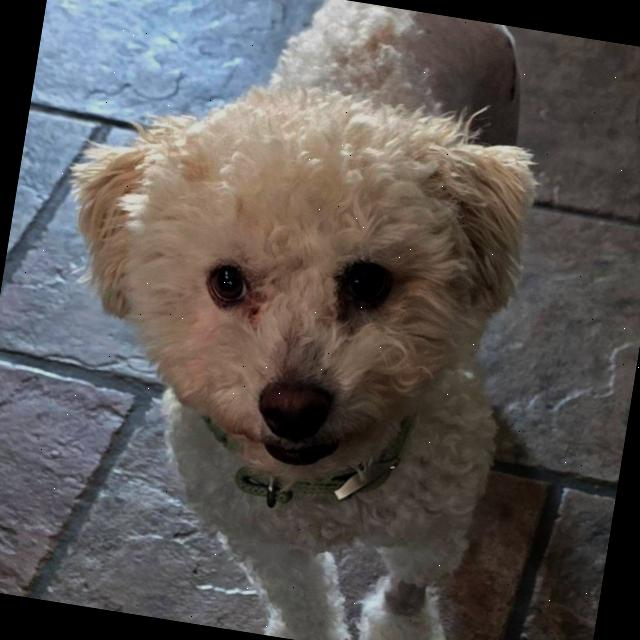Poodle_dog: (2, 45, 570, 538)
